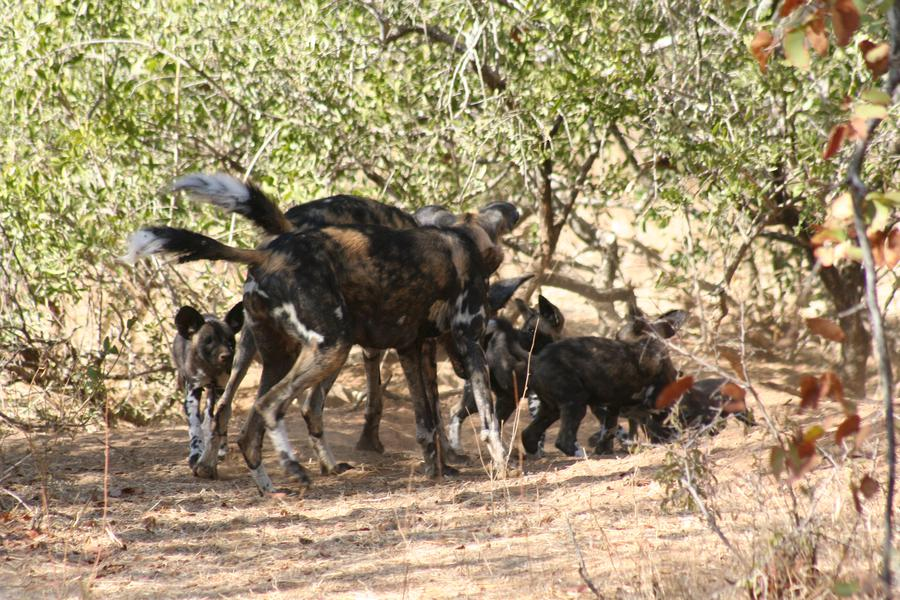wilddog: (265, 239, 477, 343), (526, 336, 652, 452), (179, 304, 243, 458), (283, 200, 419, 228)
